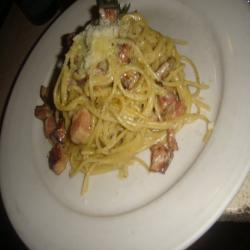carbonara: (35, 13, 209, 184)
